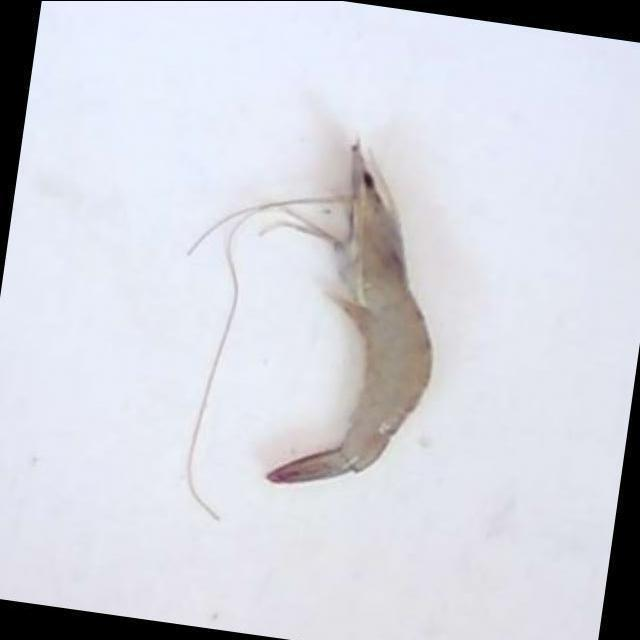shrimp: (267, 142, 431, 483)
